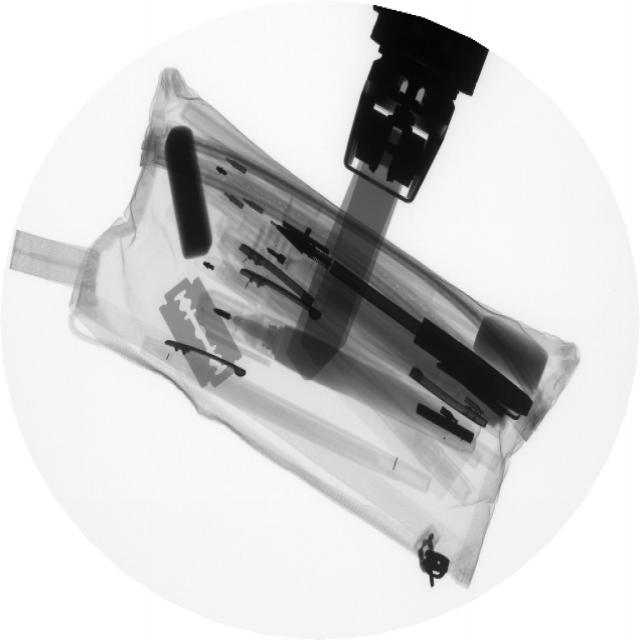BLADE: (156, 265, 245, 383)
